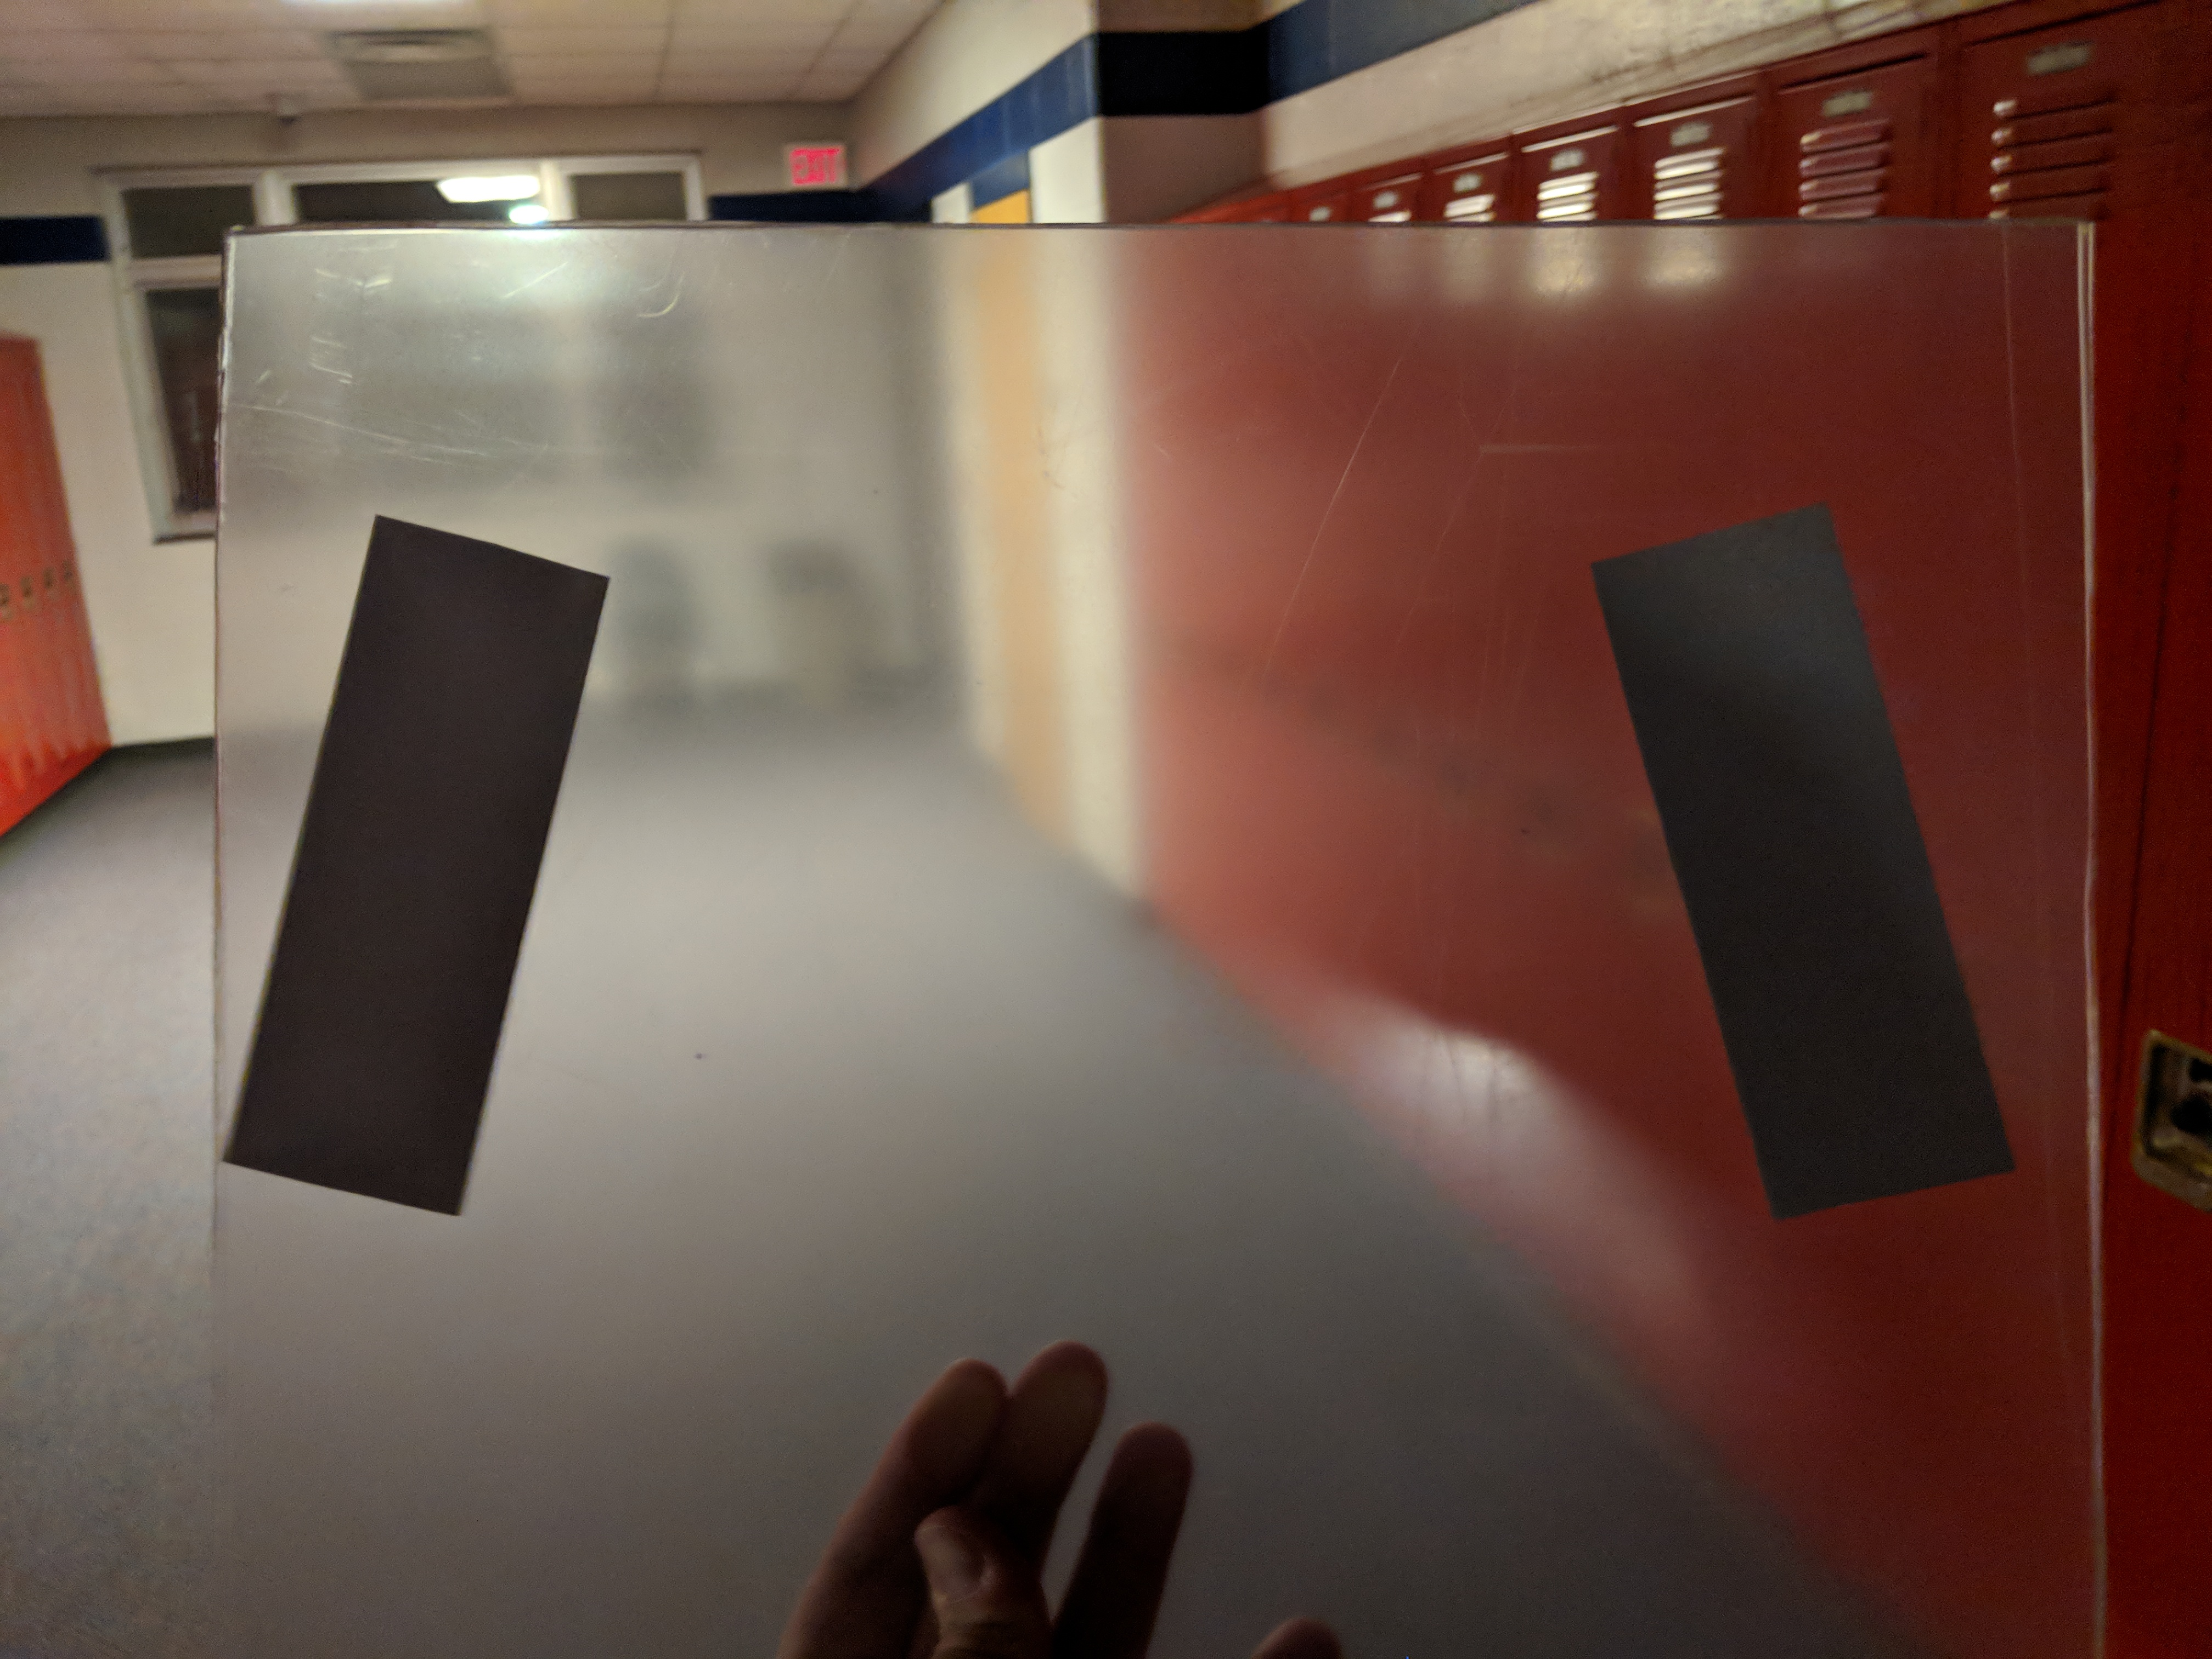vision_target: (202, 479, 2031, 1260)
